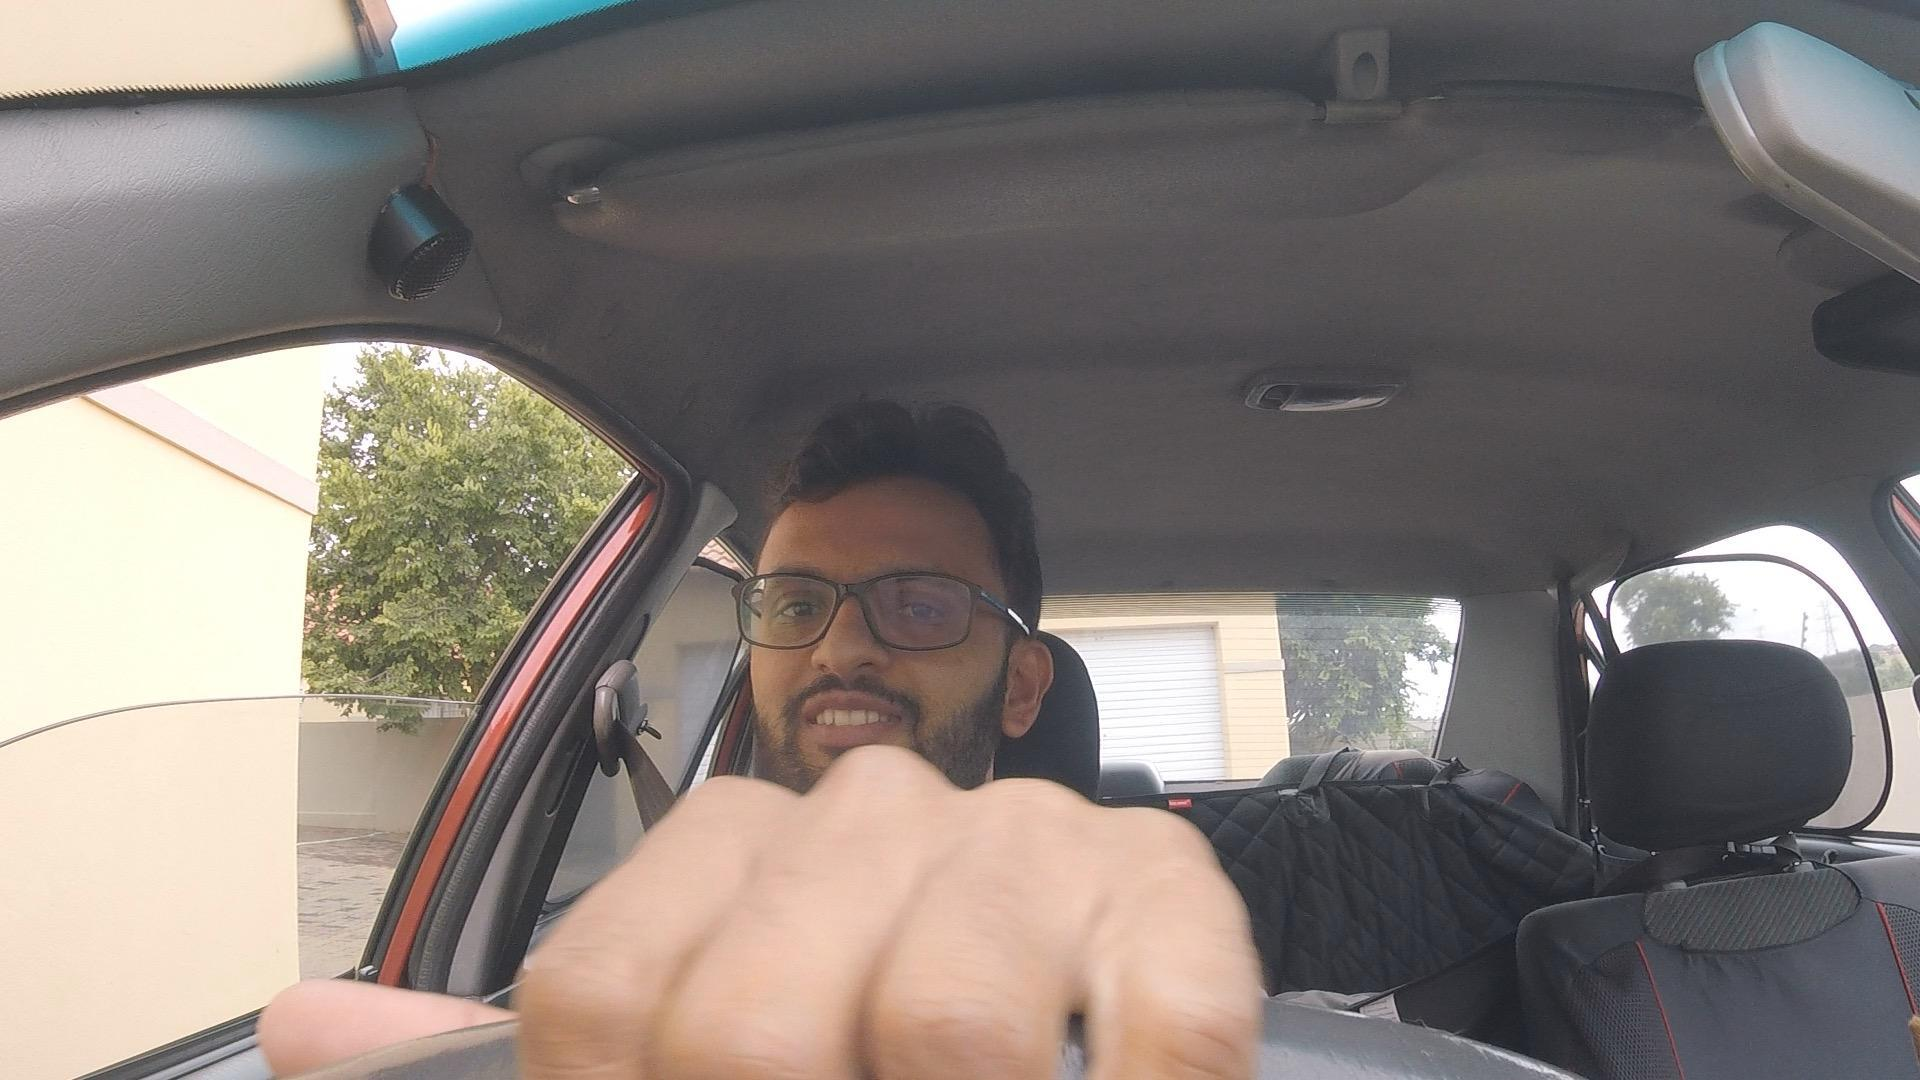SafeDriving: (731, 396, 1055, 833)
